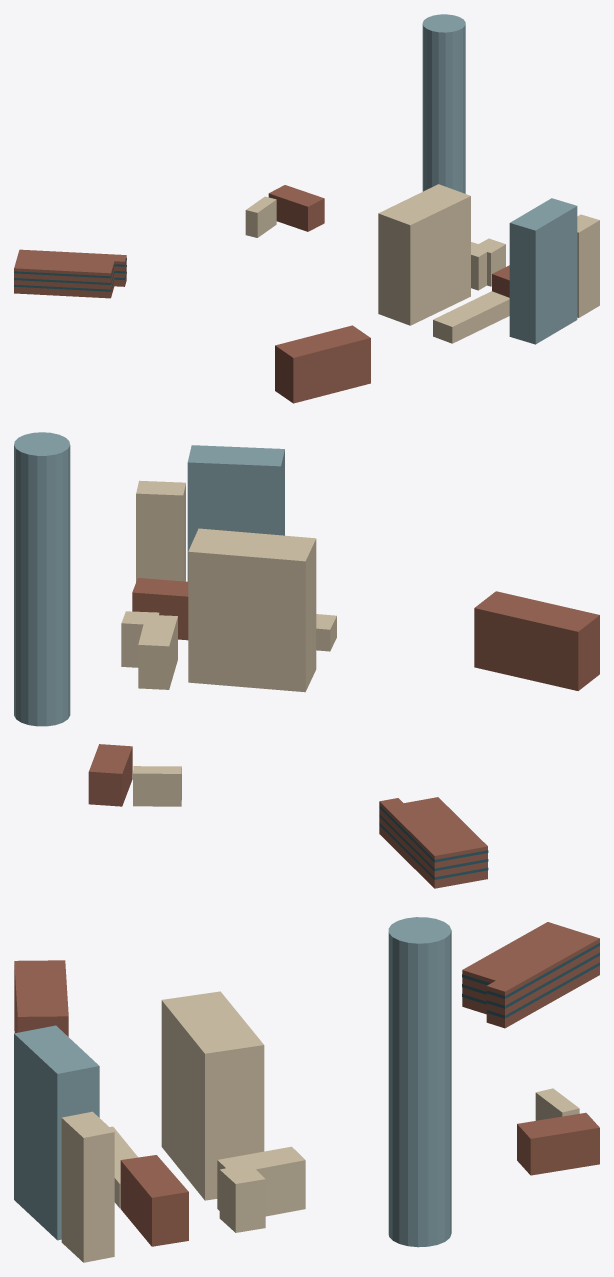
Rendered from city_-1_5.glb.
3 renders of one model, top to bottom at view 1: azimuth 30°, elevation 25°; view 2: azimuth 150°, elevation 25°; view 3: azimuth 270°, elevation 25°, orthographic. The views are drawn at different scales.
Parts seen in each view (by area): view 1: city_-1_5; view 2: city_-1_5; view 3: city_-1_5.
Boxes of the visible parts, x1,y1,x2,y2 form: city_-1_5: (14, 14, 599, 403); city_-1_5: (14, 432, 599, 888); city_-1_5: (14, 917, 599, 1262).
Bounding box in the file's own units: 267 × 124 × 217.
